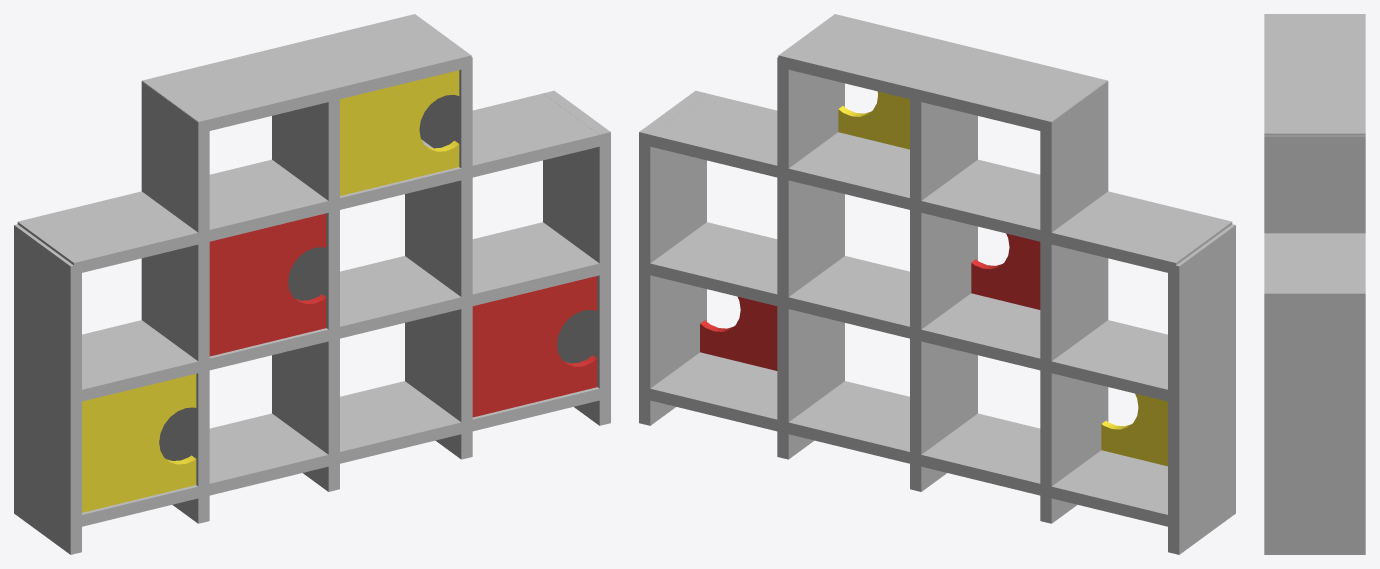
The model's file is Rack_01.fbx.
3 renders of one model, left to right at view 1: azimuth 30°, elevation 25°; view 2: azimuth 150°, elevation 25°; view 3: azimuth 270°, elevation 25°, orthographic. The views are drawn at different scales.
Visible parts, largest first — view 1: Rack_01; view 2: Rack_01; view 3: Rack_01.
Boxes of the visible parts, box(x1,y1,x2,y2) form: Rack_01: box(14, 14, 610, 554); Rack_01: box(639, 14, 1235, 554); Rack_01: box(1264, 14, 1365, 554).
Size of the model in its own units: 300 by 214 by 54.5.
